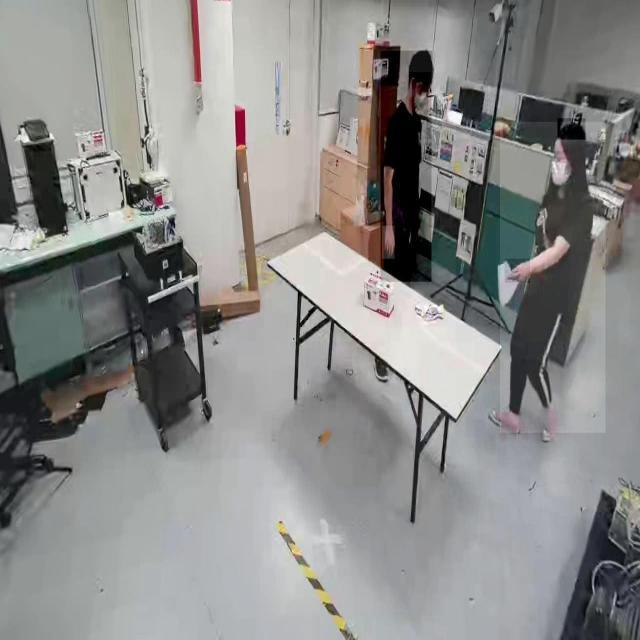boots: (485, 398, 525, 444)
